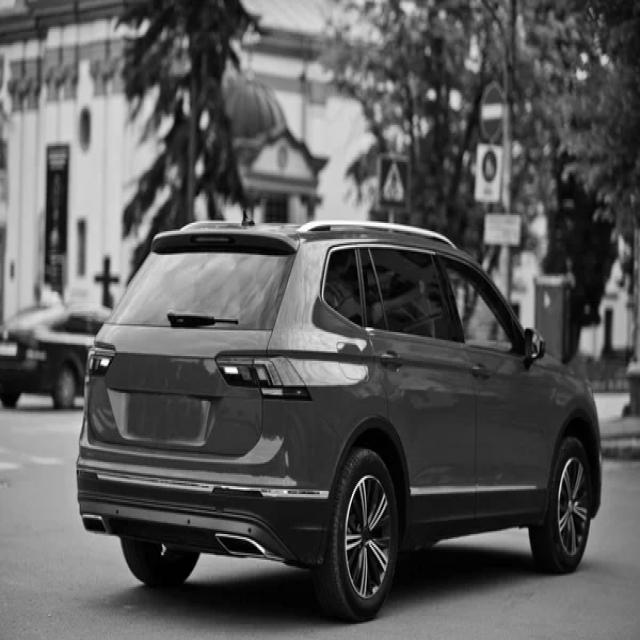Car: (77, 223, 602, 621)
